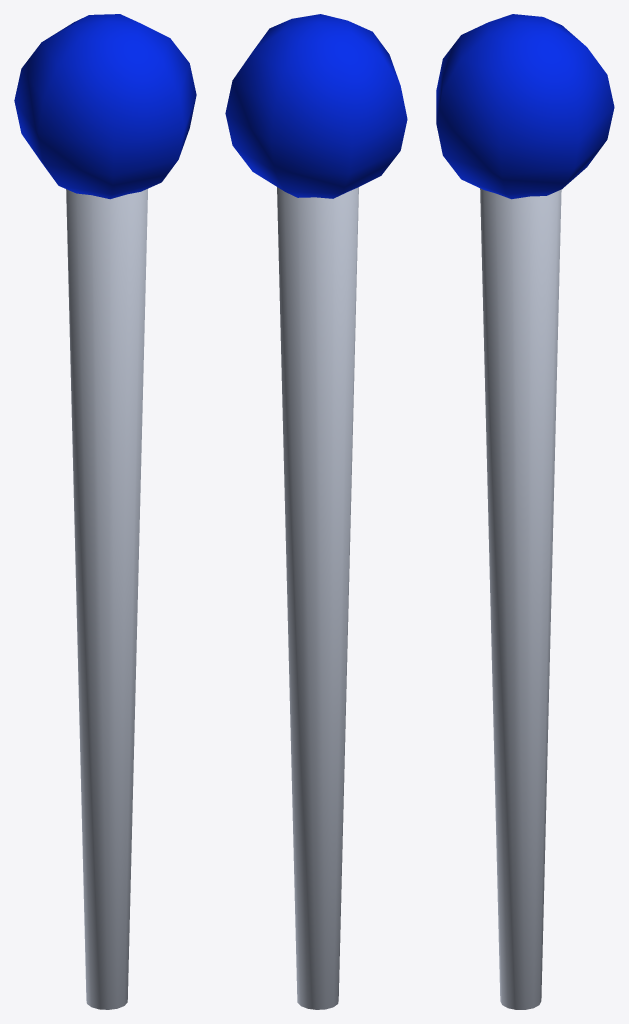
The model's file is pin2.glb.
The picture shows the model from 3 angles, left to right: view 1: azimuth 30°, elevation 25°; view 2: azimuth 150°, elevation 25°; view 3: azimuth 270°, elevation 25°; orthographic projection.
Parts seen in each view (by area): view 1: Cylinder; view 2: Cylinder; view 3: Cylinder.
Part boxes in pixels (x1,y1,x2,y2): Cylinder: (14,14,196,1009); Cylinder: (225,14,407,1009); Cylinder: (436,14,614,1009).
Bounding box in the file's own units: 0.00265 × 0.0157 × 0.00259.
